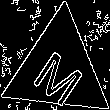M_NE: (28, 35, 89, 103)
